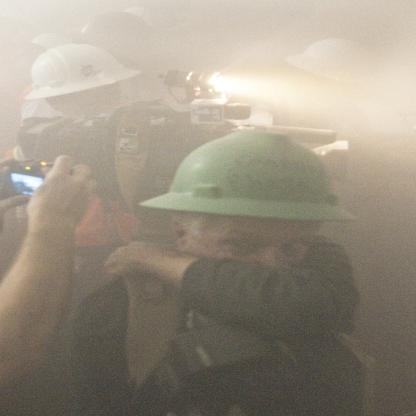Helmet: (145, 118, 342, 218), (23, 44, 143, 100), (77, 10, 159, 66), (283, 37, 381, 82)
